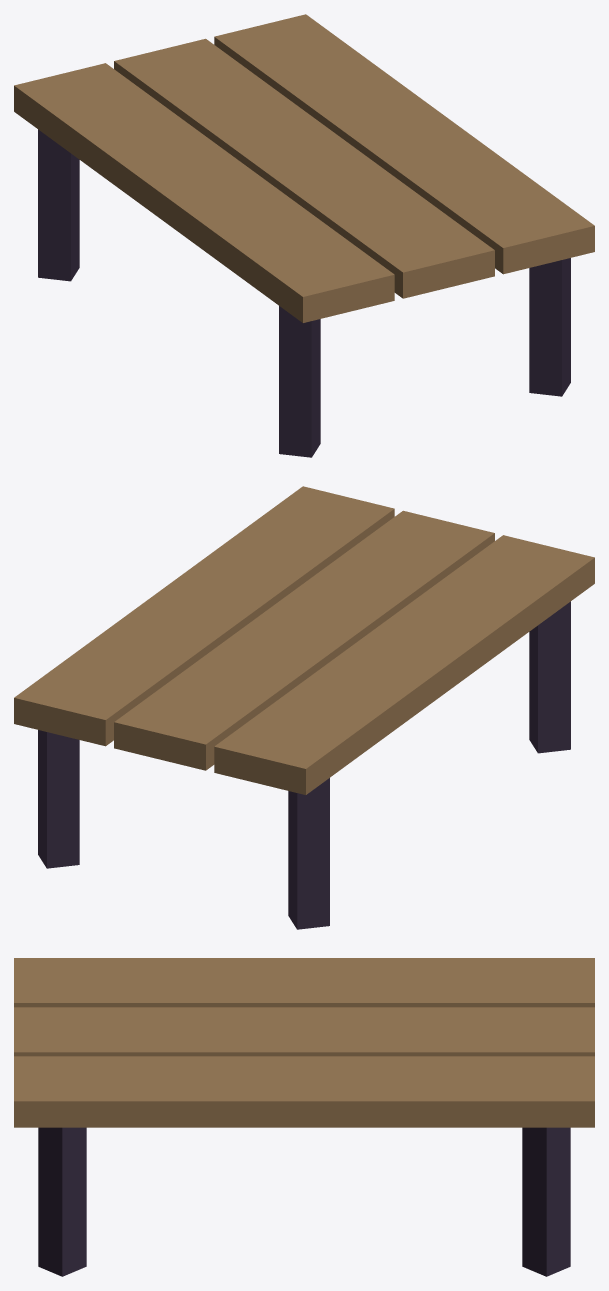
File: shared-dock.glb
3 views of the same model, one above another, from view 1: azimuth 30°, elevation 25°; view 2: azimuth 150°, elevation 25°; view 3: azimuth 270°, elevation 25° (orthographic).
Visible parts, largest first — view 1: shared-dock; view 2: shared-dock; view 3: shared-dock.
Boxes of the visible parts, left/top/right/bottom form: shared-dock: left=14, top=14, right=594, bottom=457; shared-dock: left=14, top=486, right=594, bottom=929; shared-dock: left=14, top=958, right=594, bottom=1276.
Bounding box in the file's own units: 0.7 × 0.4 × 1.2.
